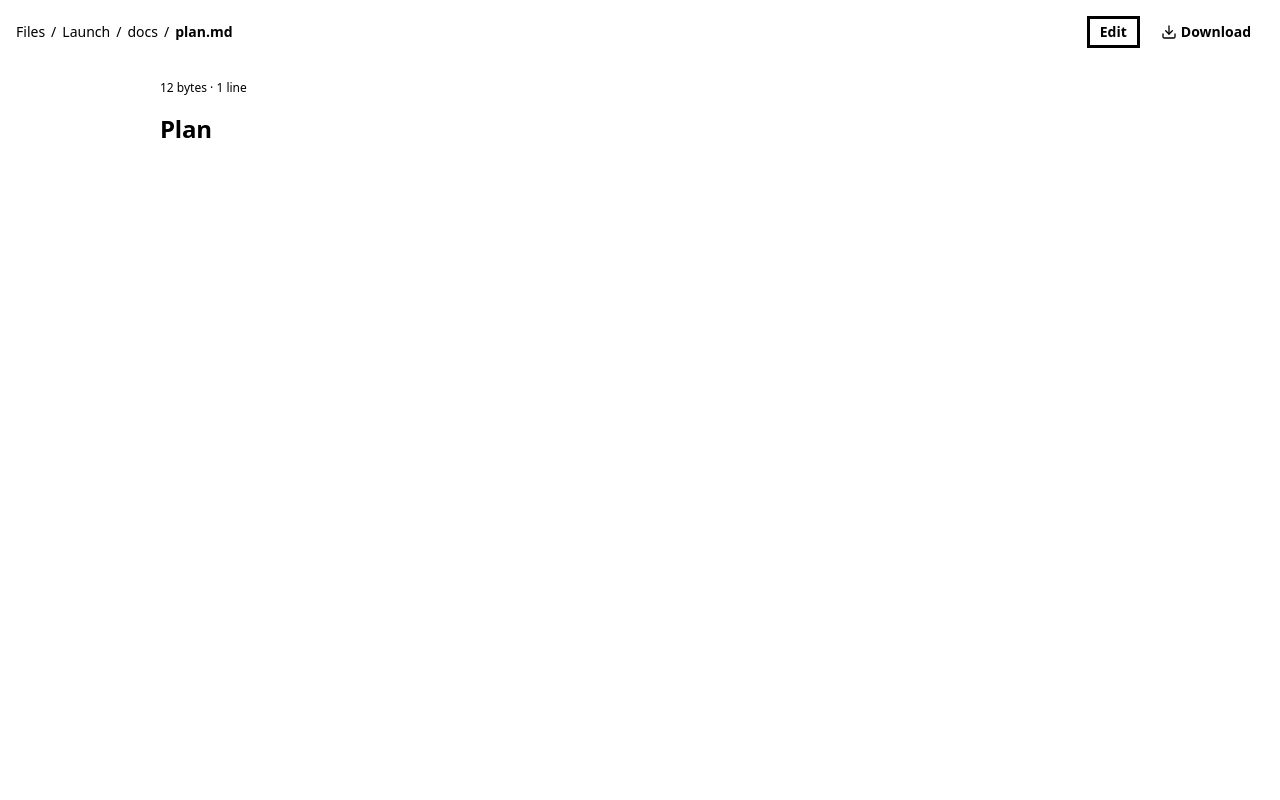
Test case: changing a file › sends what was written and what the file was, and shows the file again once it is saved
This screenshot has width=1280, height=800.
Click the button "Edit": [1113, 32] box [1087,16,1140,48]
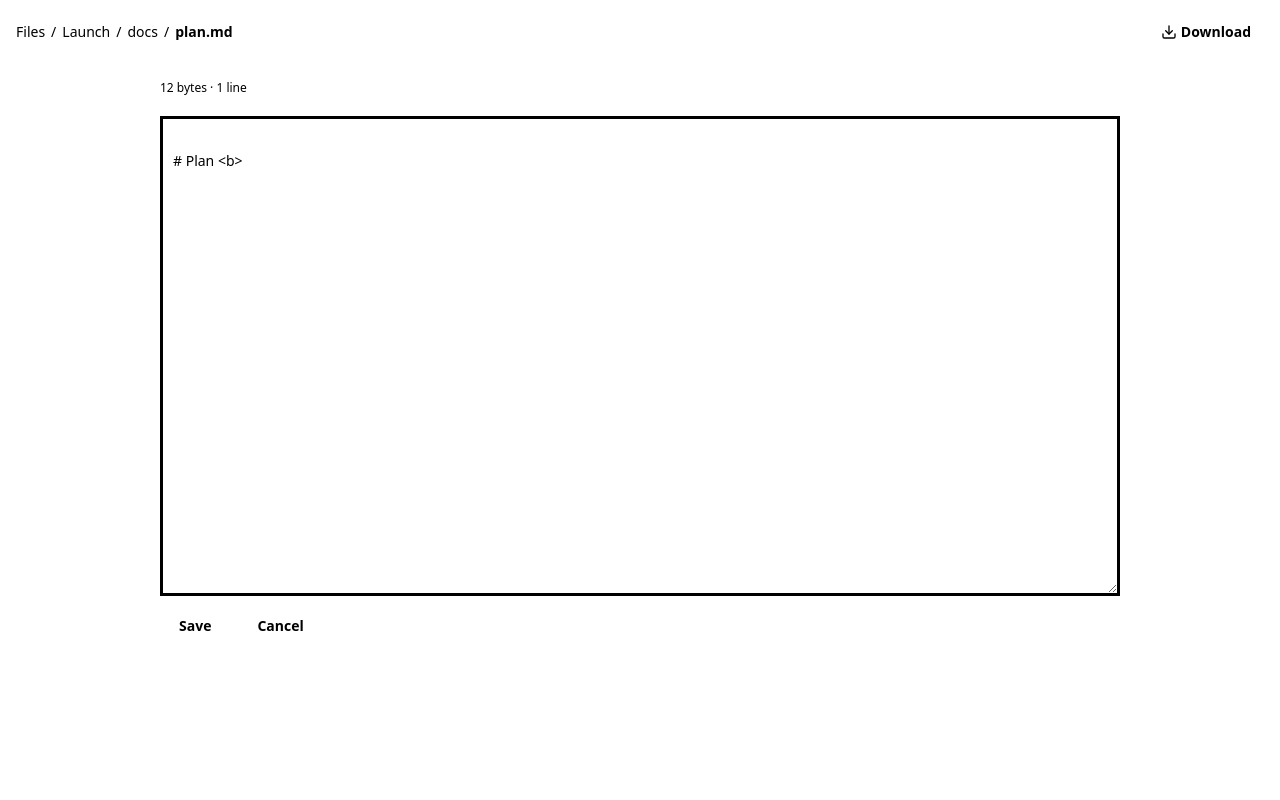
Replace the text in the text box with test id "file-text" with "# New plan": [640, 356] box [160,116,1120,596]
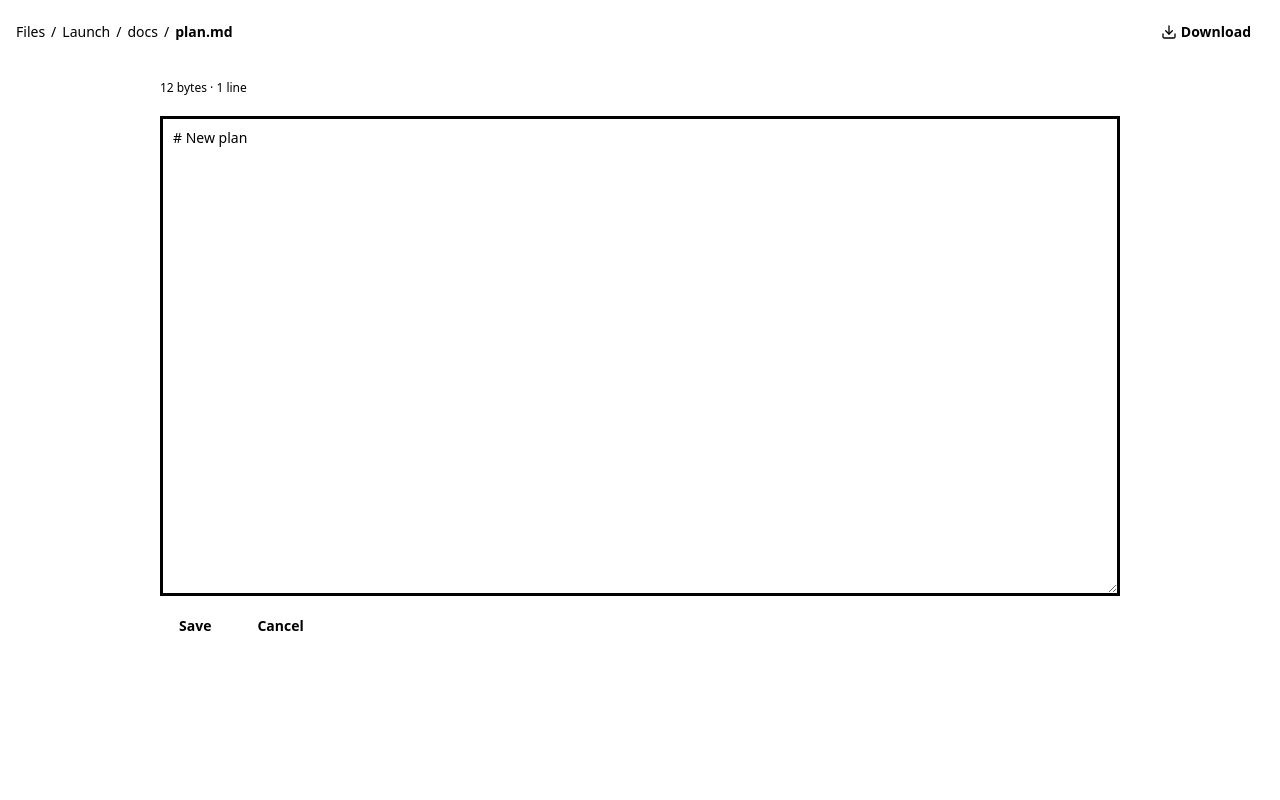
Click the button "Save": [195, 626] box [160,608,230,644]
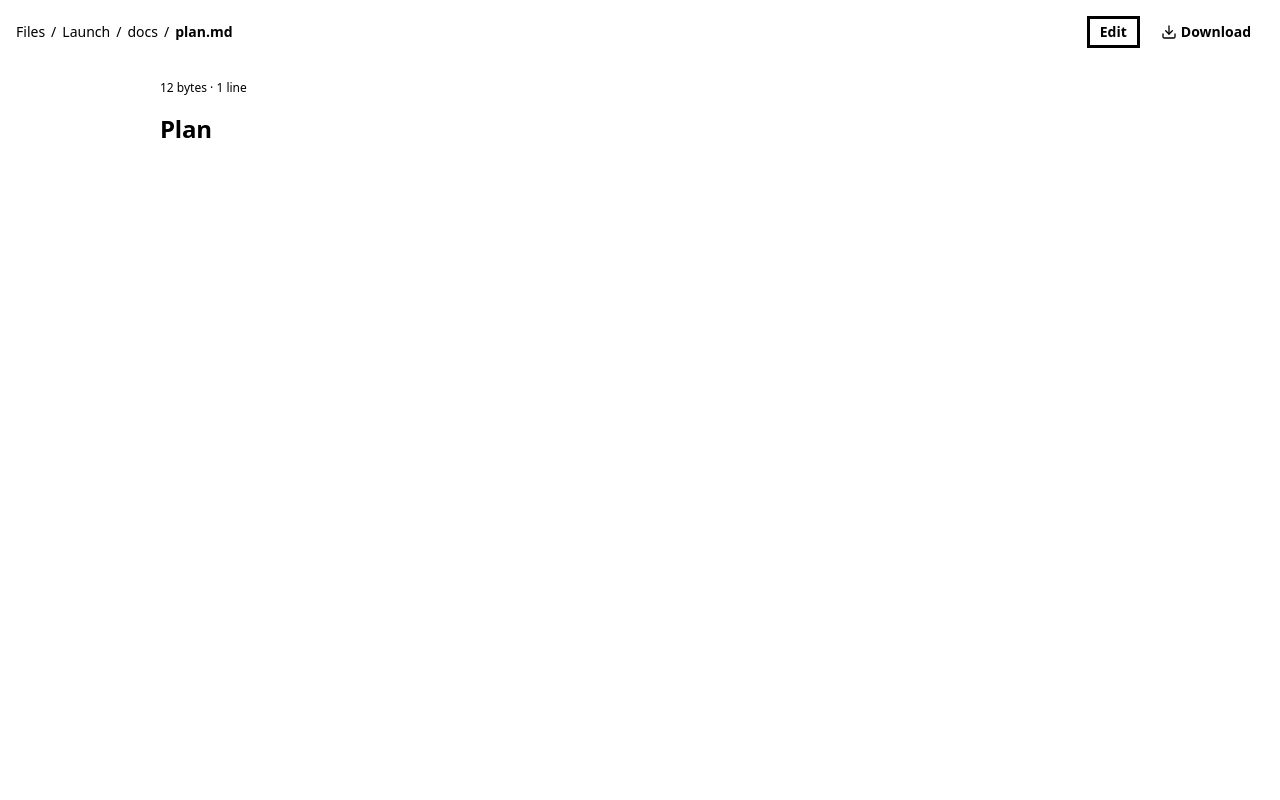
Expected: the element with test id "file-body" is shown, [160,112,212,145]
